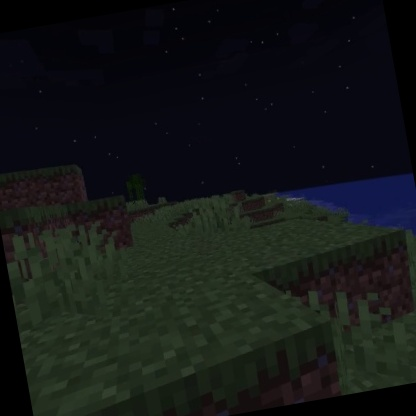spider: (110, 188, 288, 355)
